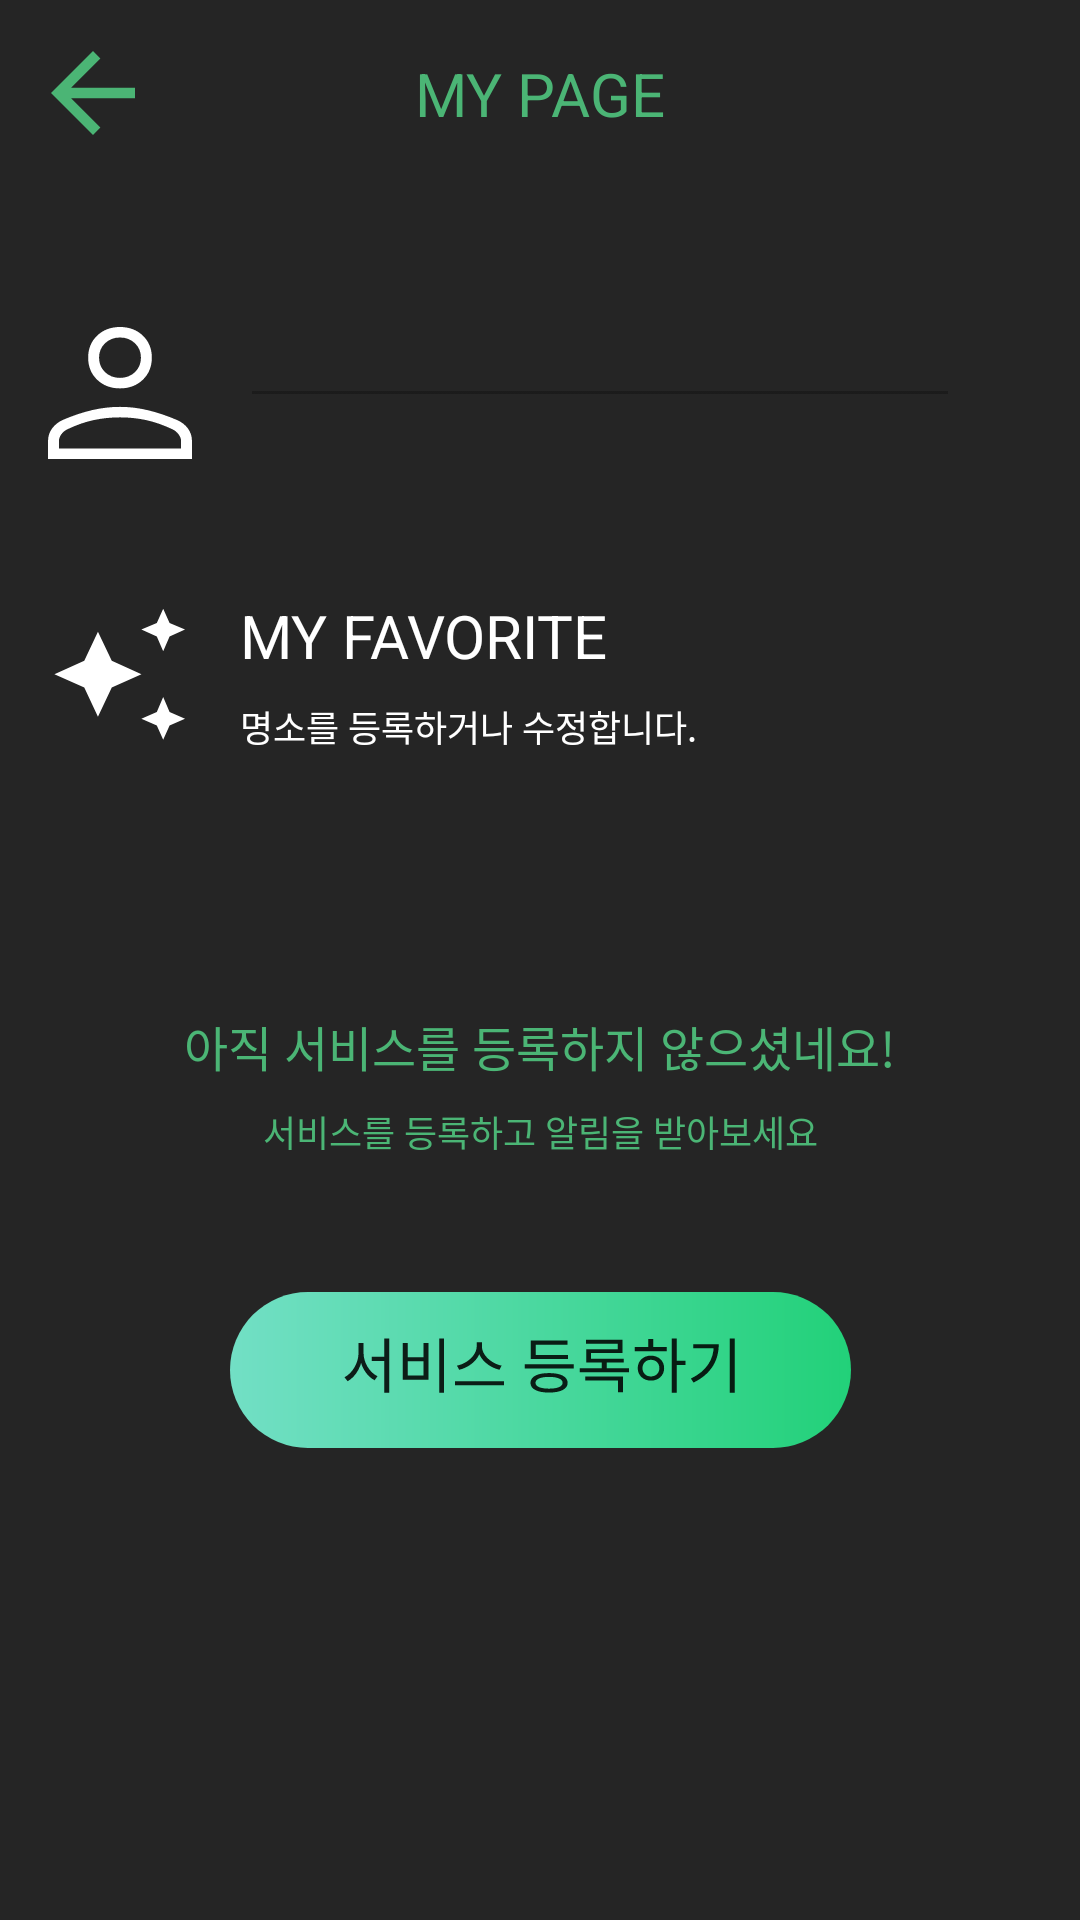

Icons on this 1080px×1920px Android screen, each with its box as (x1, y1, x2, y2):
back step arrow: (51, 51, 135, 135)
mypage: (48, 327, 192, 459)
